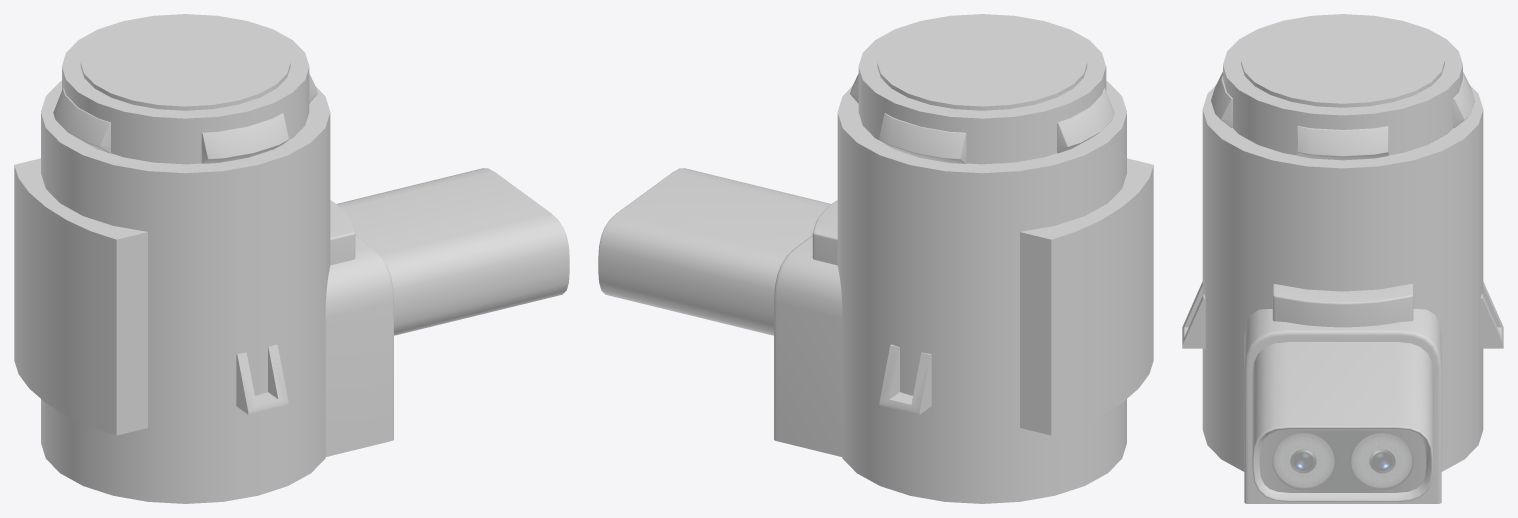
The model's file is Ultrasonic-Radar.glb.
The picture shows the model from 3 angles, left to right: view 1: azimuth 30°, elevation 25°; view 2: azimuth 150°, elevation 25°; view 3: azimuth 270°, elevation 25°; orthographic projection. The views are drawn at different scales.
Parts seen in each view (by area): view 1: 超声波雷达; view 2: 超声波雷达; view 3: 超声波雷达.
Part boxes in pixels (x1,y1,x2,y2): 超声波雷达: (14, 14, 569, 503); 超声波雷达: (598, 14, 1153, 503); 超声波雷达: (1182, 14, 1503, 503).
Bounding box in the file's own units: 0.1446 × 0.1101 × 0.0869.
2 materials, 1 textured.
